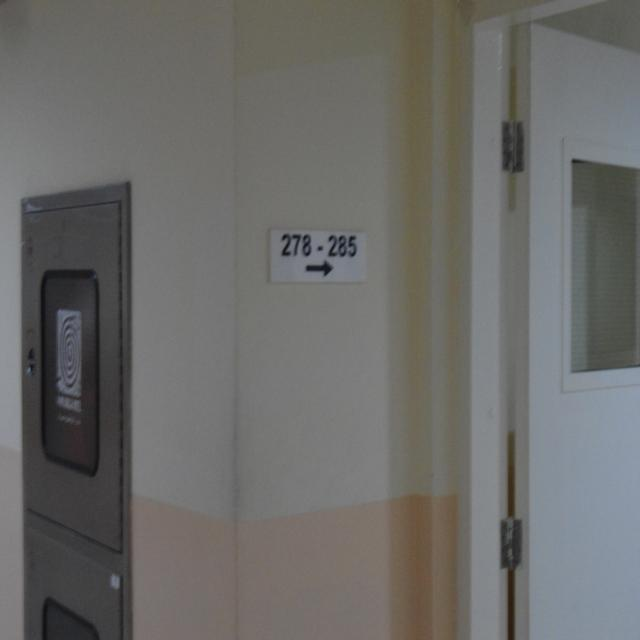door: (472, 0, 640, 640)
sign: (266, 219, 366, 285)
wall: (232, 0, 464, 640), (2, 3, 235, 640)
